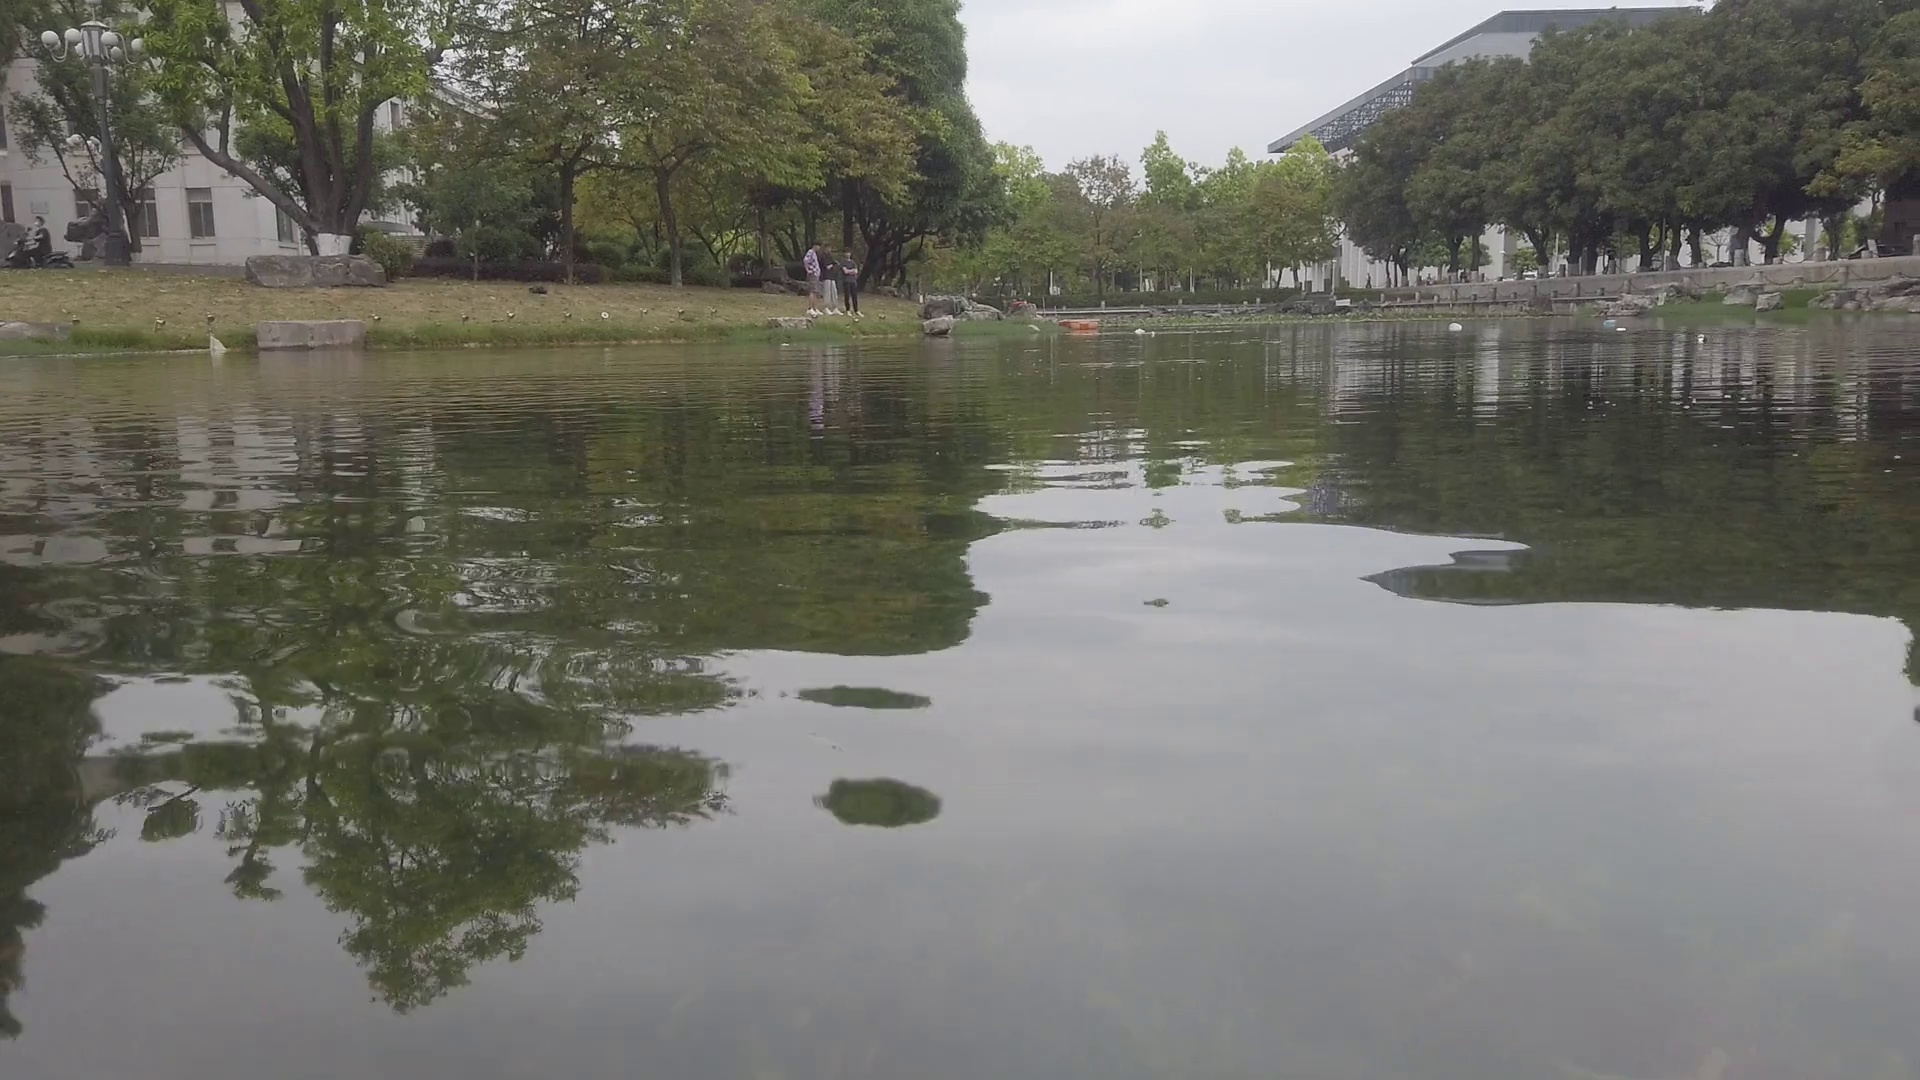bottle: (1695, 335, 1708, 345)
carton: (1604, 318, 1618, 328)
plastic: (1447, 322, 1464, 331), (1135, 326, 1145, 335)
